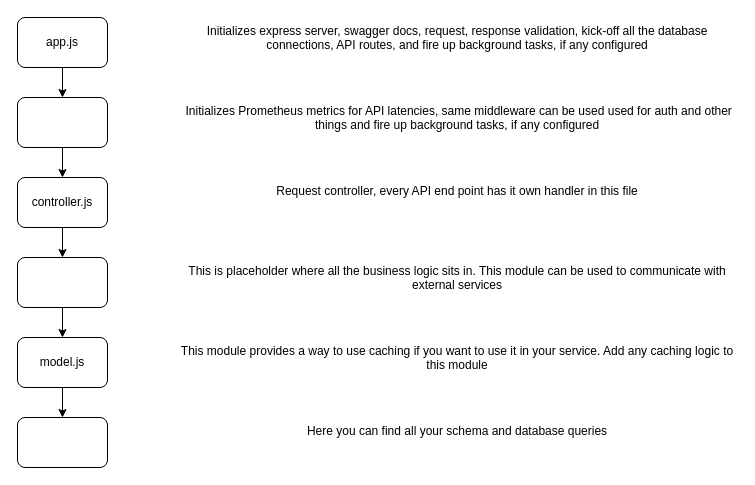
This 755x485 diagram has some shape labels left out. The shapes that lost their labels are listed below. From the top down, each one's centre as x and y in pixels, then its label:
At (x=62, y=122): "middleware.js".
At (x=62, y=282): "services.js".
At (x=62, y=442): "DBModel.js".
